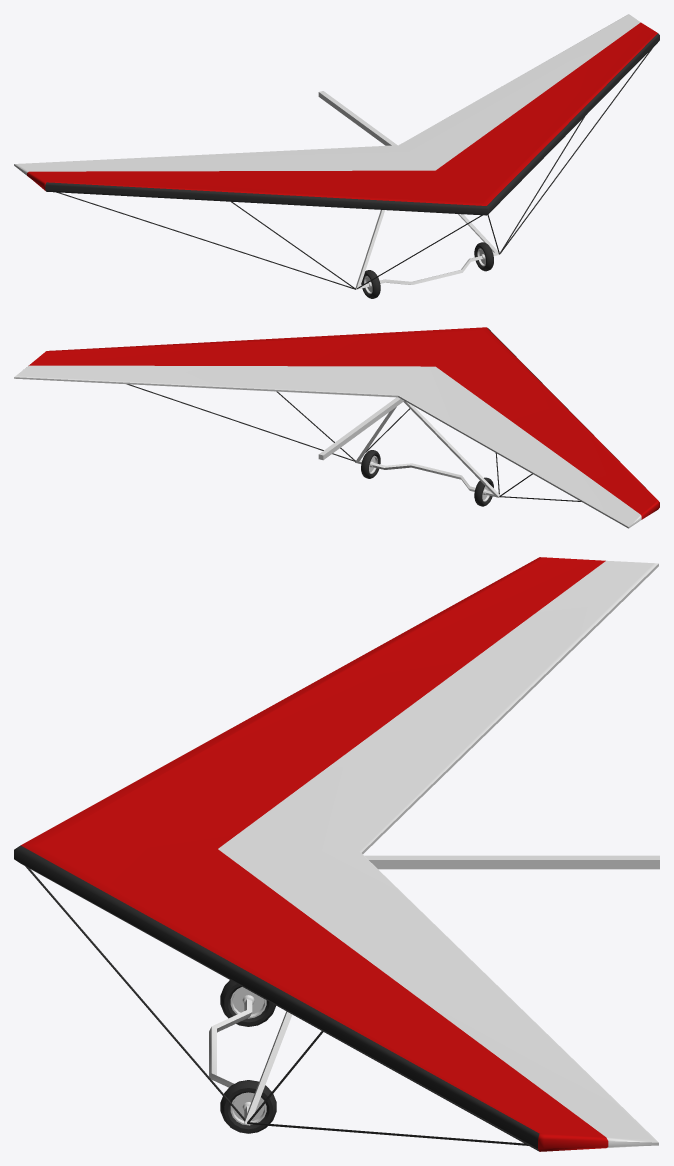
Rendered from Hang Glider.glb.
3 views of the same model, one above another, from view 1: azimuth 30°, elevation 25°; view 2: azimuth 150°, elevation 25°; view 3: azimuth 270°, elevation 25° (orthographic). The views are drawn at different scales.
Parts seen in each view (by area): view 1: Object_2; view 2: Object_2; view 3: Object_2.
Boxes of the visible parts, x1,y1,x2,y2 form: Object_2: [14, 14, 659, 298]; Object_2: [14, 327, 659, 528]; Object_2: [14, 557, 659, 1151].
Size of the model in its own units: 137 by 25.8 by 64.54.
1 material, 1 textured.
